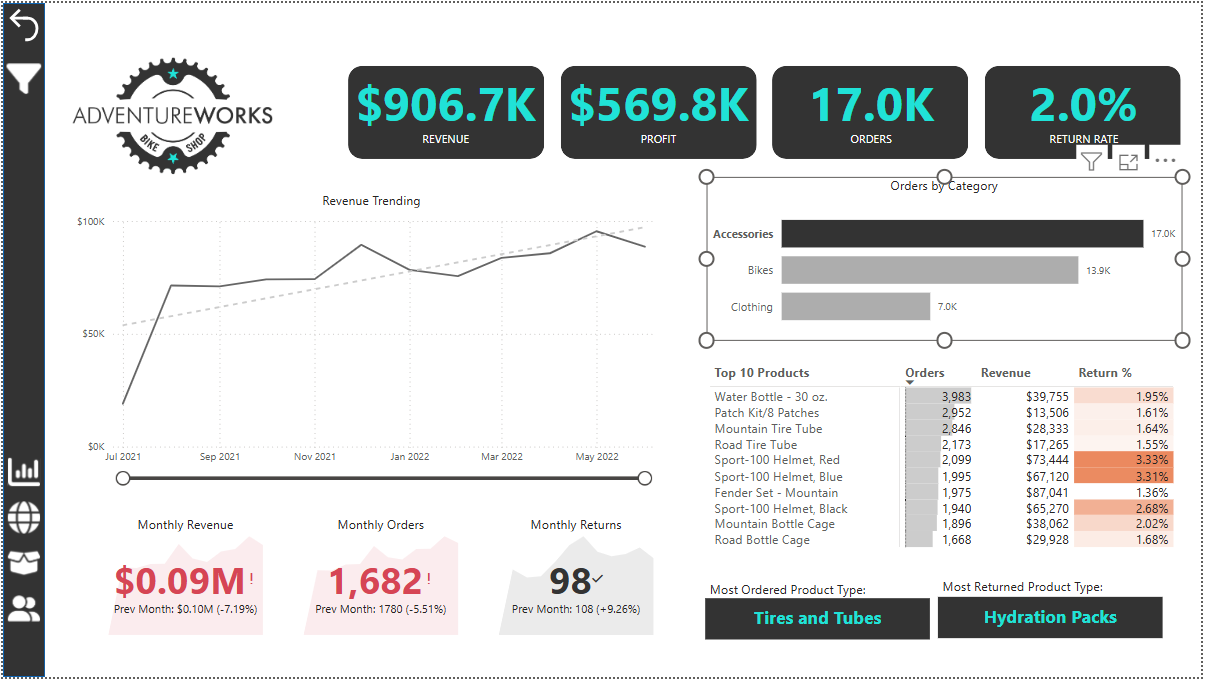

Layout of this report page (visuals, bound fields, positions):
{"tool":"powerbi","page":{"name":"Exec Dashboard","canvas":[1280,720],"ordinal":0},"visuals":[{"type":"shape","title":"Left Nav Background","box":[0,0,45,719.9],"z":0},{"type":"card","fields":{"Values":["Measure Table.Total Revenue"]},"box":[350,58.6,245.3,107.4],"z":0,"group":"g2"},{"type":"group","id":"g1","title":"KPI Backgrounds","box":[368.9,67.6,889.2,99.4],"z":0,"group":"g3"},{"type":"shape","box":[1048.6,67.6,209.5,99.4],"z":0,"group":"g1"},{"type":"actionButton","box":[1.3,527.9,62.3,42.4],"z":0,"group":"g4"},{"type":"image","title":"AW Logo","box":[45.1,35.8,271.8,169.7],"z":1000},{"type":"group","id":"g2","title":"KPI Values","box":[350,58.6,927.2,107.4],"z":1000,"group":"g3"},{"type":"card","fields":{"Values":["Measure Table.Return Rate"]},"box":[1031.4,58.6,245.7,107.1],"z":1000,"group":"g2"},{"type":"shape","box":[822.1,67.6,209.5,99.4],"z":1000,"group":"g1"},{"type":"actionButton","box":[1.3,576.5,62.3,42.4],"z":1000,"group":"g4"},{"type":"group","id":"g3","title":"KPIs","box":[350,58.6,927.2,108.4],"z":2000},{"type":"card","fields":{"Values":["Measure Table.Total Profit"]},"box":[576.8,58.6,245.7,107.1],"z":2000,"group":"g2"},{"type":"shape","box":[595.5,67.6,209.5,99.4],"z":2000,"group":"g1"},{"type":"actionButton","box":[1.3,625.1,62.3,42.4],"z":2000,"group":"g4"},{"type":"card","fields":{"Values":["Measure Table.Total Orders"]},"box":[804.1,58.6,245.7,107.1],"z":3000,"group":"g2"},{"type":"shape","box":[368.9,67.6,209.5,99.4],"z":3000,"group":"g1"},{"type":"lineChart","title":"Revenue Trending","fields":{"Y":["Measure Table.Total Revenue"],"Category":["Calendar Lookup.Year","Calendar Lookup.Start of Quarter.Variation.Date Hierarchy.Quarter","Calendar Lookup.Start of Quarter.Variation.Date Hierarchy.Month","Calendar Lookup.Date Hierarchy.Start of Month"]},"box":[72.9,201.4,641.4,317.1],"z":3000},{"type":"actionButton","box":[1.3,479.3,62.3,42.4],"z":3000,"group":"g4"},{"type":"kpi","title":"Monthly Revenue","fields":{"Indicator":["Measure Table.Total Revenue"],"TrendLine":["Calendar Lookup.Start of Month"],"Goal":["Measure Table.Previous Month Revenue"]},"box":[107.1,547.1,175.7,132.9],"z":4000},{"type":"kpi","title":"Monthly Orders","fields":{"TrendLine":["Calendar Lookup.Start of Month"],"Indicator":["Measure Table.Total Orders"],"Goal":["Measure Table.Previous Month Orders"]},"box":[315.7,547.1,175.7,132.9],"z":5000},{"type":"kpi","title":"Monthly Returns","fields":{"TrendLine":["Calendar Lookup.Start of Month"],"Indicator":["Measure Table.Total Returns"],"Goal":["Measure Table.Previous Month Returns"]},"box":[524.3,547.1,175.7,132.9],"z":6000},{"type":"clusteredBarChart","title":"Orders by Category","fields":{"Category":["Product Categories Lookup.CategoryName"],"Y":["Measure Table.Total Orders"]},"box":[751.7,185.6,507.7,175],"z":7000},{"type":"pivotTable","fields":{"Rows":["Product Lookup.ProductName"],"Values":["Measure Table.Total Orders","Measure Table.Total Revenue","Measure Table.Return Rate"]},"box":[750.3,380.5,507.7,216.1],"z":8000},{"type":"card","fields":{"Values":["Min(Product Subcategories Lookup.SubcategoryName)"]},"box":[750.3,636.3,240,43.7],"z":9000},{"type":"textbox","box":[750.3,611.1,222.7,50.4],"z":10000},{"type":"card","fields":{"Values":["Min(Product Subcategories Lookup.SubcategoryName)"]},"box":[998.2,634.4,240,43.7],"z":11000},{"type":"textbox","box":[998.3,608.5,222.7,50.4],"z":12000},{"type":"actionButton","box":[0,0,45.7,47.1],"z":13000},{"type":"group","id":"g4","title":"Navigation Buttons","box":[1.3,479.3,62.3,188.2],"z":14000},{"type":"actionButton","box":[0,58.3,45.1,45.1],"z":15000}]}

Visuals, with their boxes on the page's 1280x720 design canvas (x1, y1, x2, y2). These are canvas units, not pixel positions in the 1205x682 screenshot, which may show the page scaled, cropped or inside an application window:
"Left Nav Background" shape: detection(0, 0, 45, 720)
card - Measure Table.Total Revenue: detection(350, 59, 595, 166)
"KPI Backgrounds" group: detection(369, 68, 1258, 167)
shape: detection(1049, 68, 1258, 167)
actionButton: detection(1, 528, 64, 570)
"AW Logo" image: detection(45, 36, 317, 206)
"KPI Values" group: detection(350, 59, 1277, 166)
card - Measure Table.Return Rate: detection(1031, 59, 1277, 166)
shape: detection(822, 68, 1032, 167)
actionButton: detection(1, 576, 64, 619)
"KPIs" group: detection(350, 59, 1277, 167)
card - Measure Table.Total Profit: detection(577, 59, 822, 166)
shape: detection(596, 68, 805, 167)
actionButton: detection(1, 625, 64, 668)
card - Measure Table.Total Orders: detection(804, 59, 1050, 166)
shape: detection(369, 68, 578, 167)
"Revenue Trending" lineChart: detection(73, 201, 714, 518)
actionButton: detection(1, 479, 64, 522)
"Monthly Revenue" kpi: detection(107, 547, 283, 680)
"Monthly Orders" kpi: detection(316, 547, 491, 680)
"Monthly Returns" kpi: detection(524, 547, 700, 680)
"Orders by Category" clusteredBarChart: detection(752, 186, 1259, 361)
pivotTable - Product Lookup.ProductName x Measure Table.Total Orders: detection(750, 380, 1258, 597)
card - Min(Product Subcategories Lookup.SubcategoryName): detection(750, 636, 990, 680)
textbox: detection(750, 611, 973, 662)
card - Min(Product Subcategories Lookup.SubcategoryName): detection(998, 634, 1238, 678)
textbox: detection(998, 608, 1221, 659)
actionButton: detection(0, 0, 46, 47)
"Navigation Buttons" group: detection(1, 479, 64, 668)
actionButton: detection(0, 58, 45, 103)
